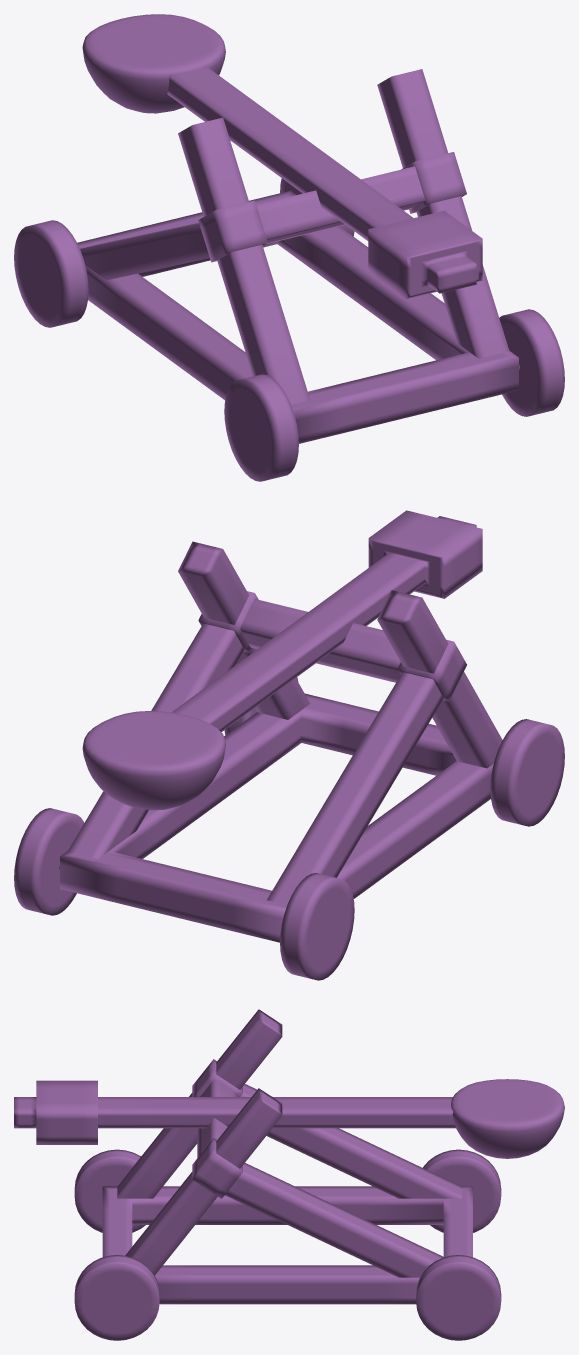
File: Catapult.fbx
The picture shows the model from 3 angles, top to bottom: view 1: azimuth 30°, elevation 25°; view 2: azimuth 150°, elevation 25°; view 3: azimuth 270°, elevation 25°; orthographic projection. The views are drawn at different scales.
Visible parts, largest first — view 1: CUBE11, CUBE10; view 2: CUBE11, CUBE10; view 3: CUBE11, CUBE10.
Part boxes in pixels (bbox=[...]): CUBE11: bbox=[14, 69, 564, 481]; CUBE10: bbox=[82, 14, 482, 299]; CUBE11: bbox=[14, 541, 564, 980]; CUBE10: bbox=[82, 510, 482, 810]; CUBE11: bbox=[74, 1009, 501, 1340]; CUBE10: bbox=[14, 1079, 564, 1158].
Bounding box in the file's own units: 1.27 × 1.19 × 2.6.
